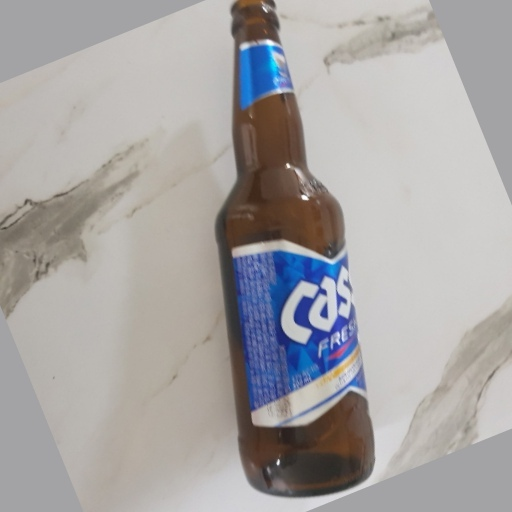Glass_1: (214, 1, 381, 498)
